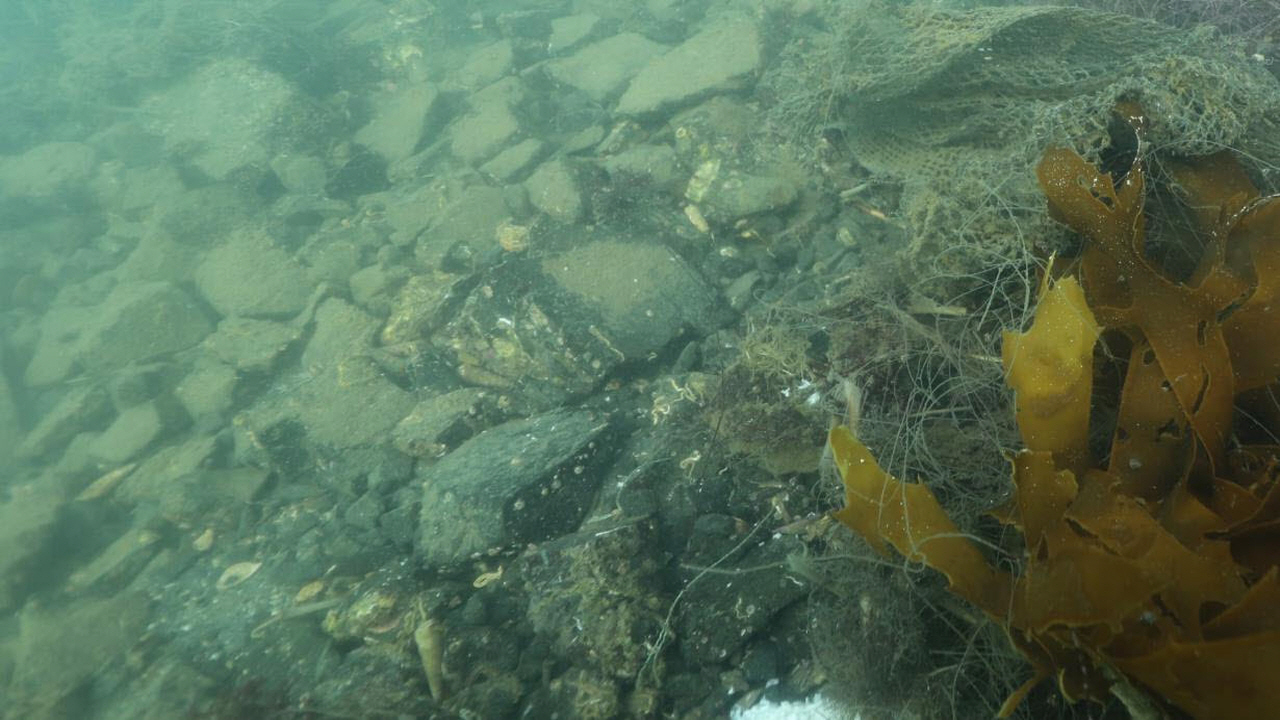fish net: (782, 0, 1280, 195)
